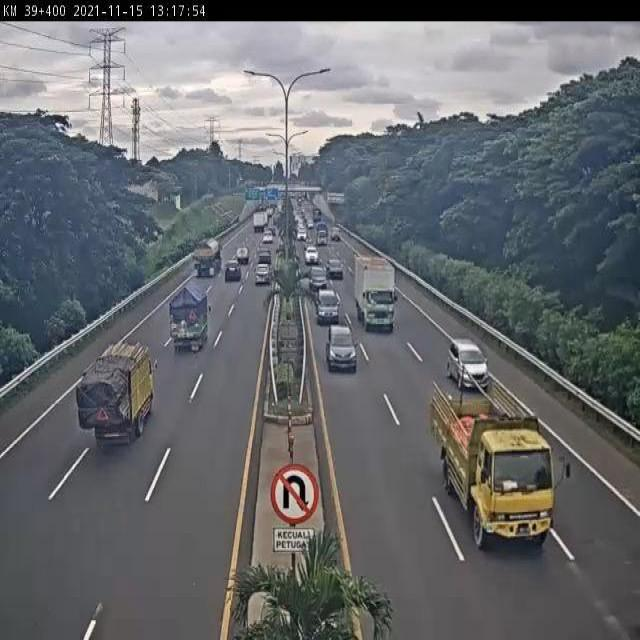car: (447, 332, 490, 396), (324, 323, 358, 372), (314, 286, 341, 326), (308, 265, 330, 296), (252, 262, 271, 290), (326, 255, 345, 281), (223, 257, 242, 283)
truck-m-: (428, 375, 561, 556), (75, 339, 155, 449), (353, 252, 400, 336), (169, 281, 208, 352)
truck-xl-: (192, 237, 224, 279)
